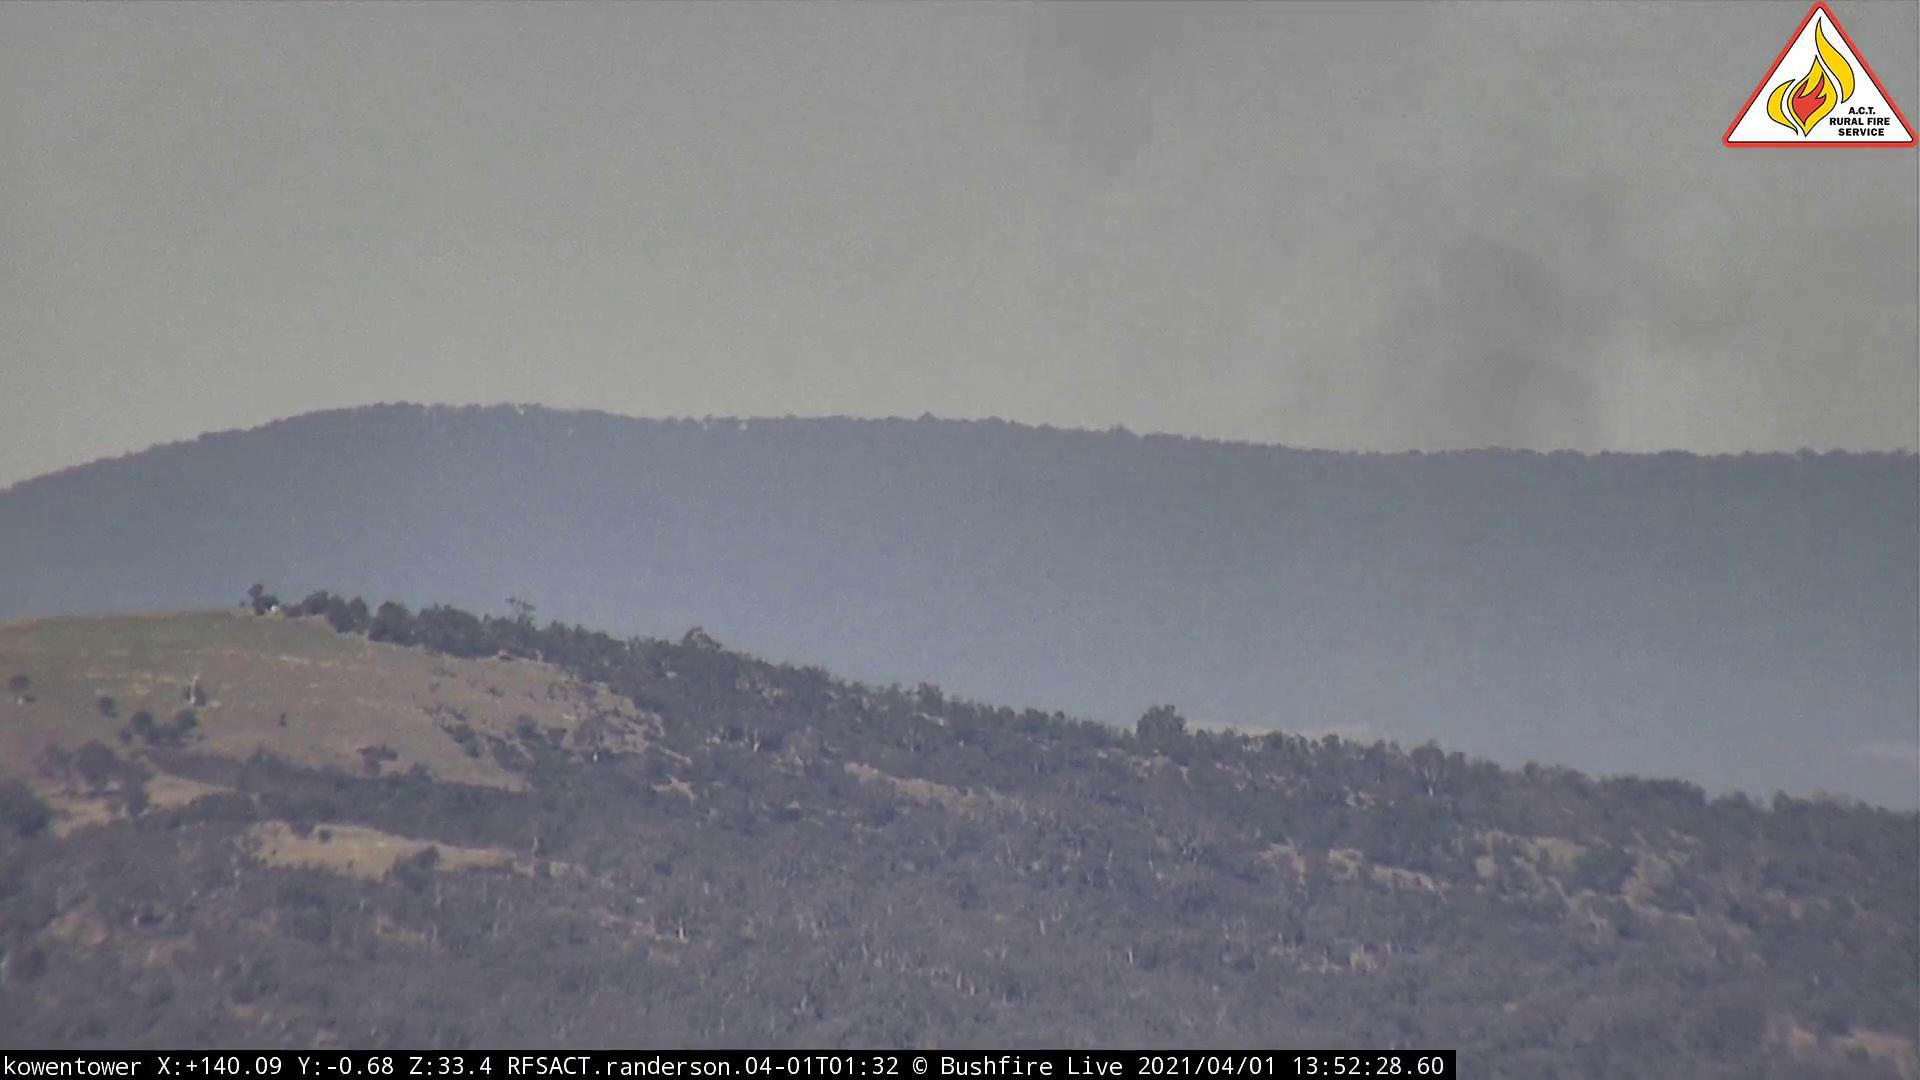Smoke: (1213, 165, 1920, 790)
